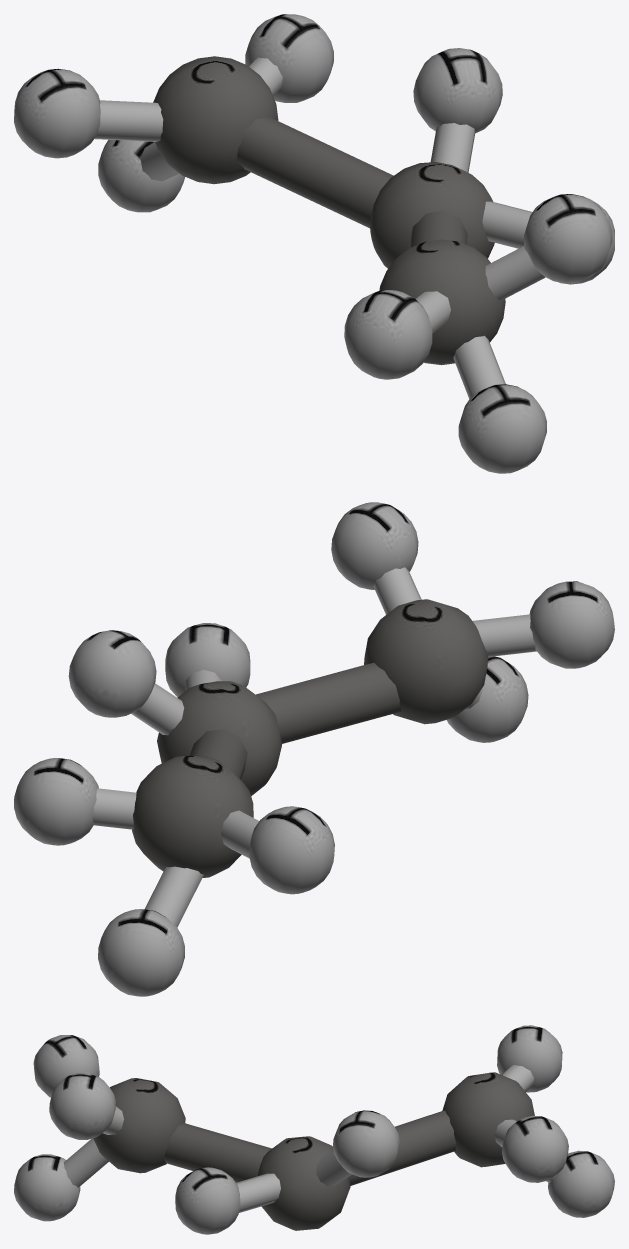
Rendered from PROPANE.fbx.
The picture shows the model from 3 angles, top to bottom: view 1: azimuth 30°, elevation 25°; view 2: azimuth 150°, elevation 25°; view 3: azimuth 270°, elevation 25°; orthographic projection. The views are drawn at different scales.
Visible parts, largest first — view 1: pSphere202, pCylinder21, pSphere214, pSphere201, pSphere213, pSphere206, pSphere204, pSphere199, pSphere215, pSphere203, pSphere207, pCylinder7 (+8 smaller); view 2: pSphere214, pSphere202, pSphere201, pCylinder20, pSphere215, pSphere207, pSphere204, pSphere213, pSphere203, pSphere199, pSphere205, pSphere206 (+7 smaller); view 3: pSphere214, pSphere201, pSphere202, pCylinder20, pSphere205, pSphere215, pSphere203, pSphere199, pSphere207, pSphere206, pSphere204, pCylinder21 (+6 smaller).
Boxes of the visible parts, x1,y1,x2,y2 form: pSphere202: (153, 56, 278, 184); pCylinder21: (236, 116, 393, 228); pSphere214: (379, 239, 505, 365); pSphere201: (370, 162, 494, 268); pSphere213: (344, 290, 432, 379); pSphere206: (458, 384, 546, 473); pSphere204: (14, 68, 100, 158); pSphere199: (523, 194, 612, 283); pSphere215: (413, 48, 502, 133); pSphere203: (245, 14, 333, 102); pSphere207: (98, 139, 184, 212); pCylinder7: (94, 100, 163, 141); pSphere214: (364, 599, 488, 724); pSphere202: (132, 756, 253, 877); pSphere201: (157, 681, 281, 796); pCylinder20: (256, 662, 401, 743); pSphere215: (68, 630, 156, 717); pSphere207: (98, 909, 184, 996); pSphere204: (249, 806, 334, 894); pSphere213: (529, 581, 614, 668); pSphere203: (14, 758, 98, 845); pSphere199: (331, 502, 418, 589); pSphere205: (165, 623, 250, 697); pSphere206: (447, 656, 528, 742); pSphere214: (93, 1078, 185, 1173); pSphere201: (257, 1136, 350, 1230); pSphere202: (442, 1072, 534, 1167); pCylinder20: (164, 1123, 271, 1182); pSphere205: (175, 1167, 240, 1234); pSphere215: (332, 1110, 399, 1177); pSphere203: (502, 1115, 568, 1182); pSphere199: (49, 1073, 115, 1139); pSphere207: (548, 1150, 614, 1217); pSphere206: (14, 1154, 80, 1221); pSphere204: (497, 1025, 562, 1092); pCylinder21: (349, 1110, 456, 1185).
Size of the model in its own units: 0.3117 by 0.1845 by 0.5753.
2 materials, 1 textured.
